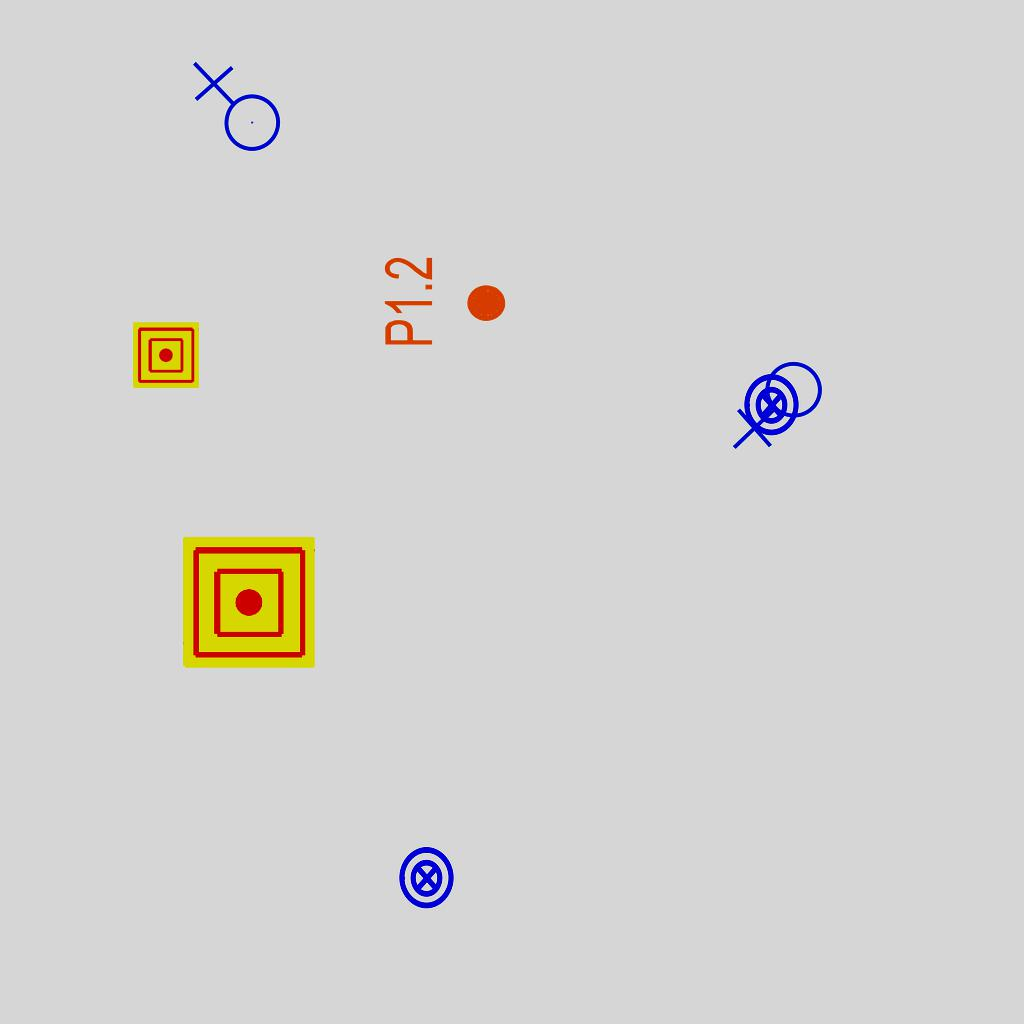Downlight_LED_Einbauleuchten_Flur: (381, 255, 509, 348)
Elektroanschluss_allgemein_230V_Geraeteanschlussdose_230V: (732, 360, 831, 454), (188, 61, 282, 160)
NAM-Nichtautomatischer_Melder: (183, 536, 315, 668), (133, 322, 199, 388)
Taster_beleuchtet: (394, 845, 460, 911), (739, 372, 805, 438)
